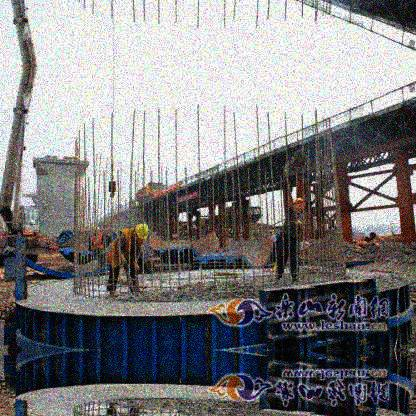helmet: (130, 223, 151, 243), (294, 196, 305, 211)
